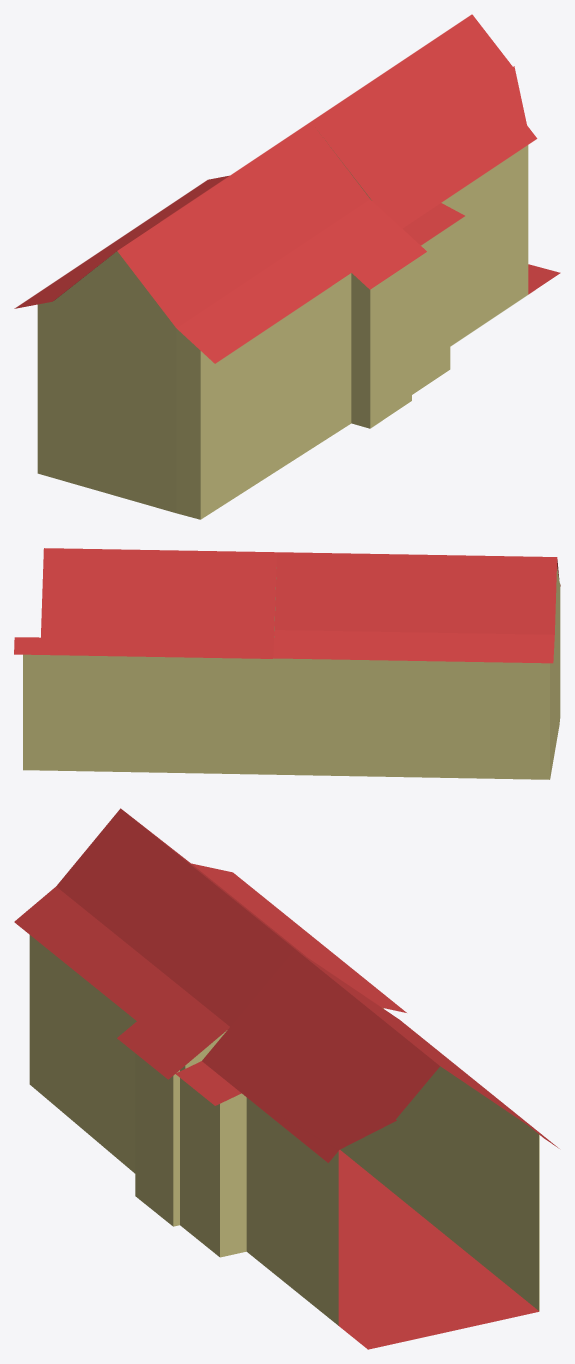
The picture shows the model from 3 angles, top to bottom: view 1: azimuth 30°, elevation 25°; view 2: azimuth 150°, elevation 25°; view 3: azimuth 270°, elevation 25°; orthographic projection. The views are drawn at different scales.
Size of the model in its own units: 32.26 by 24.04 by 12.42.
